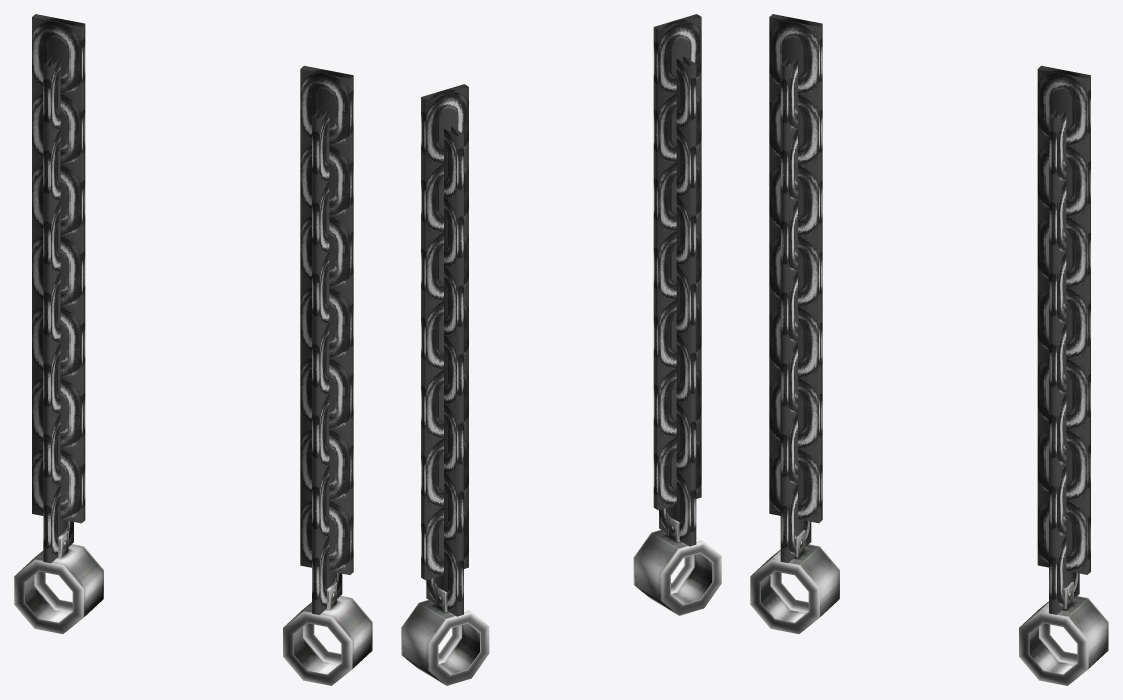
Rendered from SWORDLIGHT20_INST_CHAINCUFFS_LOD1_05.fbx.
The picture shows the model from 3 angles, left to right: view 1: azimuth 90°, elevation 25°; view 2: azimuth 150°, elevation 25°; view 3: azimuth 270°, elevation 25°; orthographic projection. The views are drawn at different scales.
Visible parts, largest first — view 1: SWORDLIGHT20_INST_CHAINCUFFS_LOD1_05; view 2: SWORDLIGHT20_INST_CHAINCUFFS_LOD1_05; view 3: SWORDLIGHT20_INST_CHAINCUFFS_LOD1_05.
Boxes of the visible parts, left/top/right/bottom form: SWORDLIGHT20_INST_CHAINCUFFS_LOD1_05: left=14, top=14, right=372, bottom=685; SWORDLIGHT20_INST_CHAINCUFFS_LOD1_05: left=401, top=14, right=721, bottom=685; SWORDLIGHT20_INST_CHAINCUFFS_LOD1_05: left=750, top=14, right=1108, bottom=685.
Size of the model in its own units: 3637 by 12114 by 6539.
2 materials, 2 textured.
